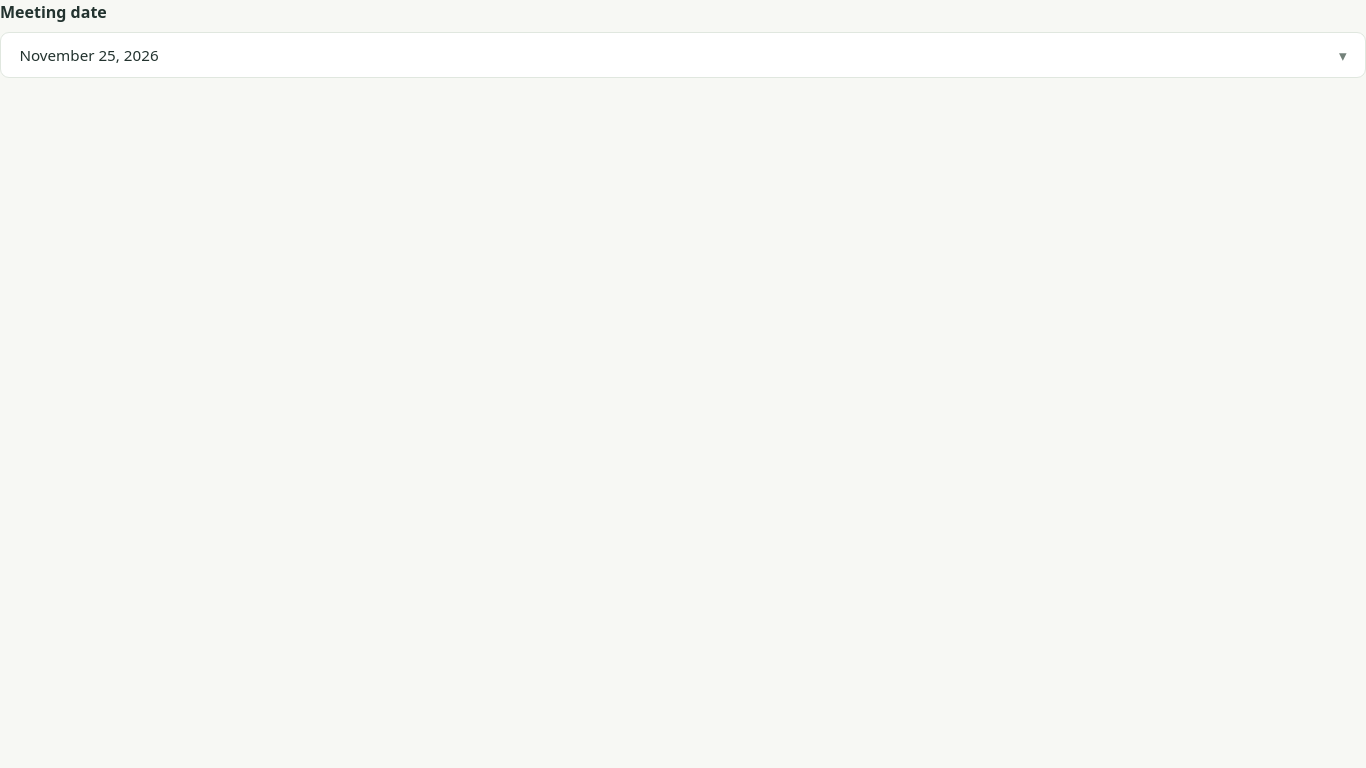
Scenario: DatePicker › opens on the selected month and updates the chosen date
Later steps or results of the test are not shown.
Click the button named "Meeting date". click: (89, 55)
box: [0,32,1365,78]
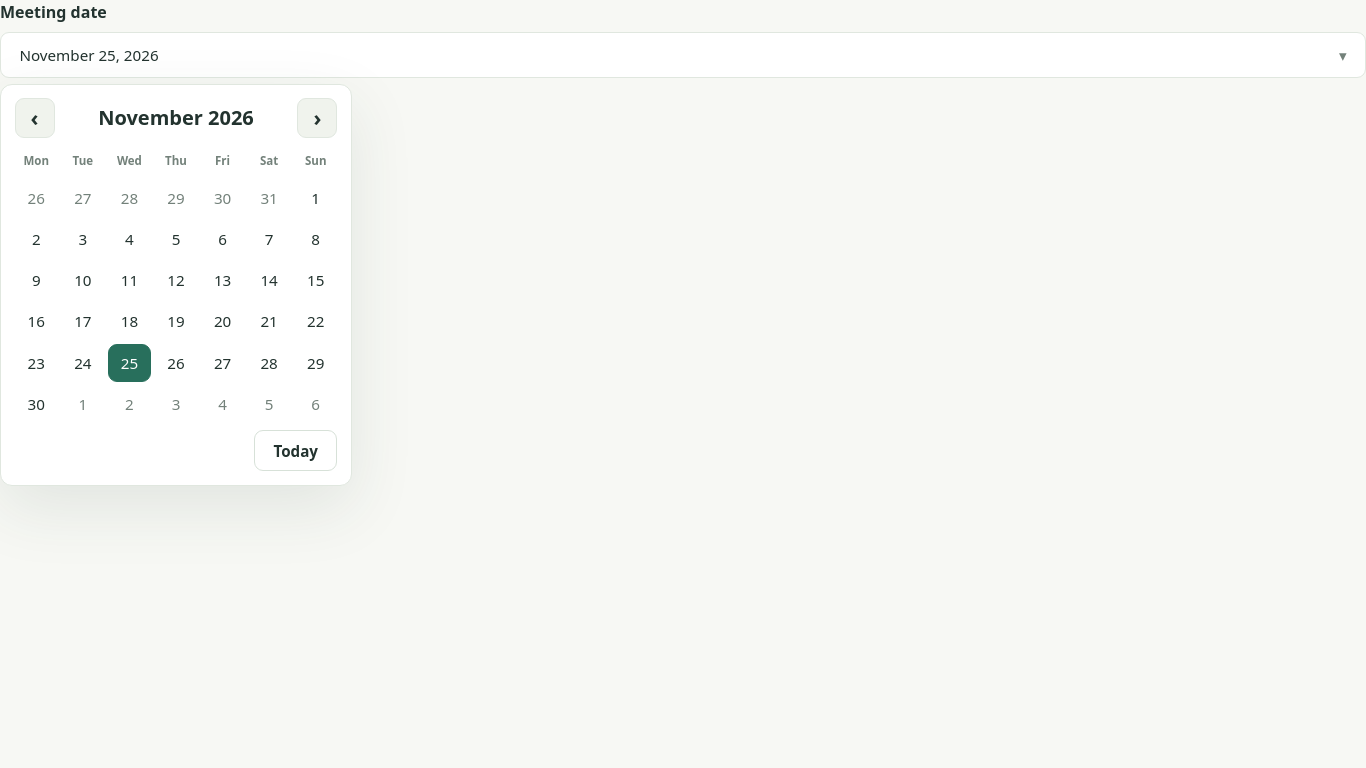
Result: the dialog named "Choose meeting date" is shown at [0,84,352,486]
Result: the heading "November 2026" is shown at [98,104,254,131]
Click the button named "Next month". click: (317, 118)
box: [297,98,337,138]
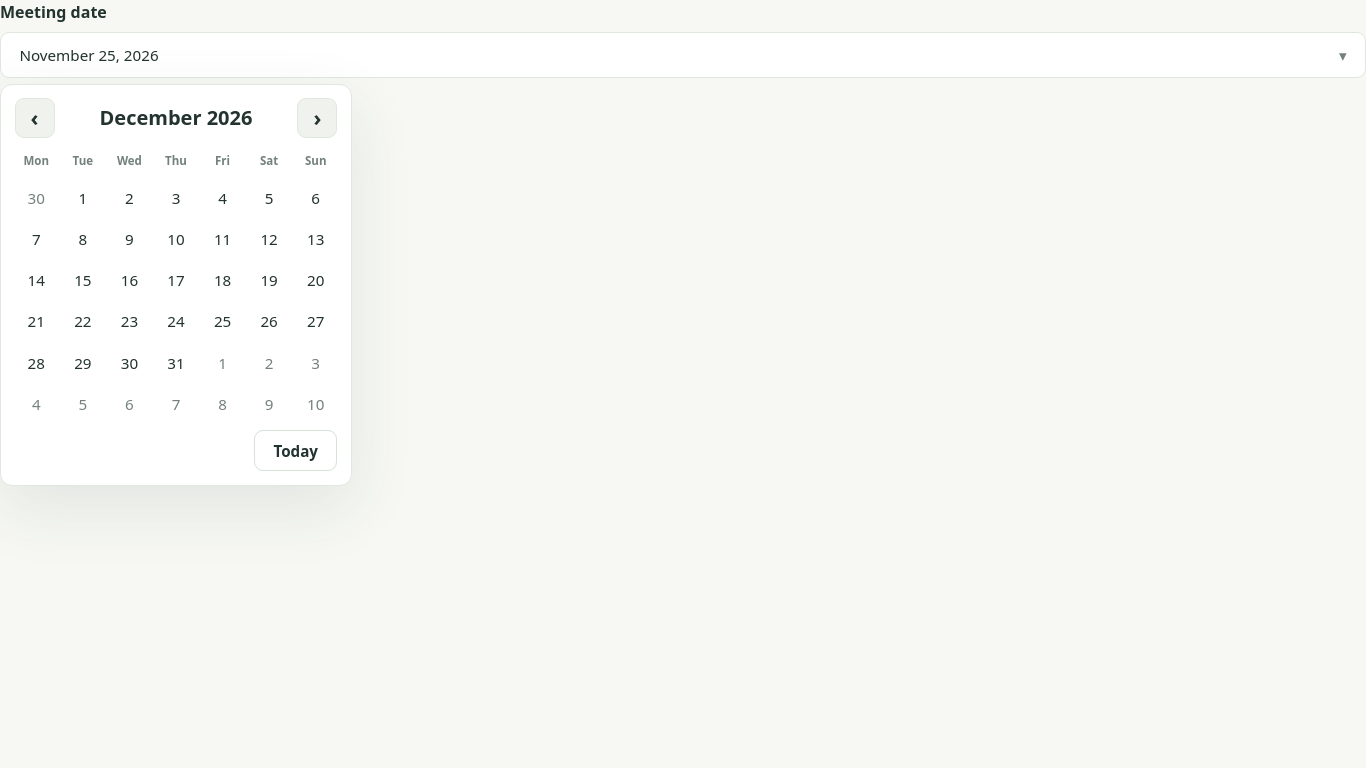
Result: the heading "December 2026" is shown at [100,104,252,131]
